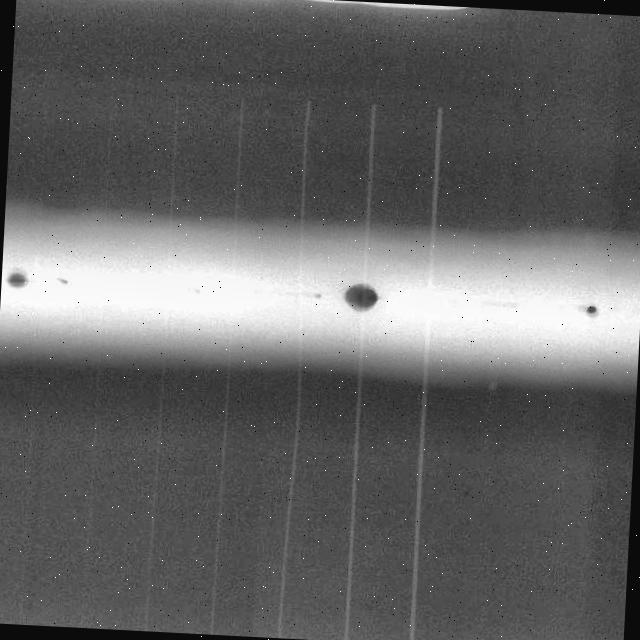Pore: (336, 276, 384, 331), (571, 292, 609, 330), (1, 262, 32, 298), (52, 272, 79, 290)
